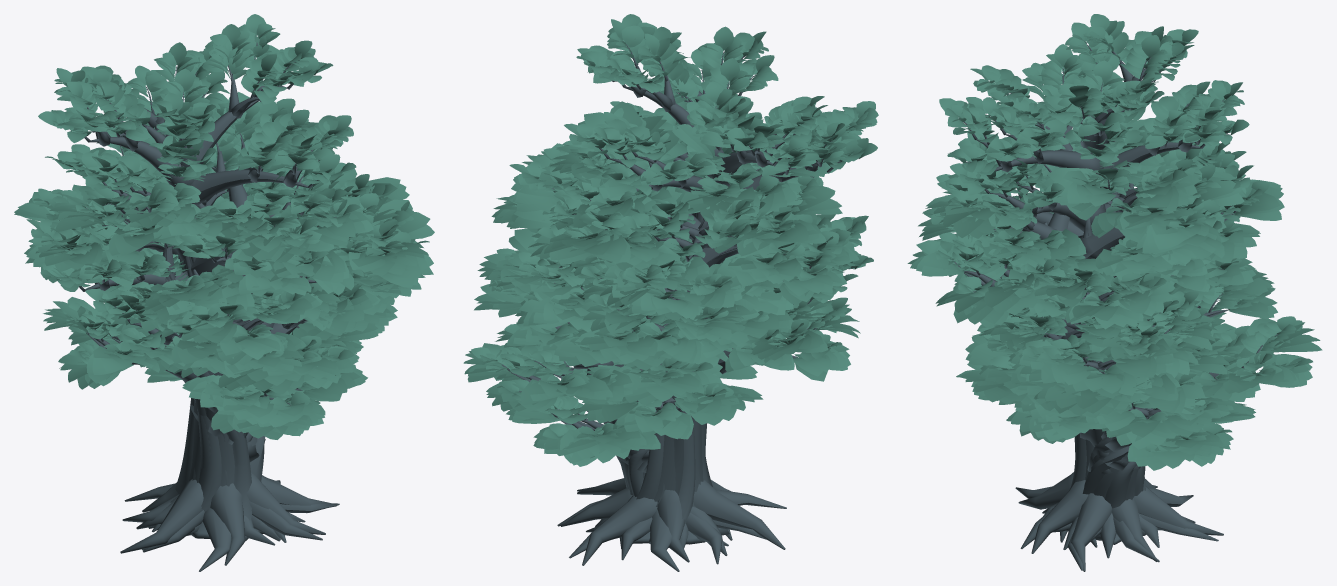
The model's file is vesper-connected-forest-v1.glb.
3 views of the same model, side by side, from view 1: azimuth 30°, elevation 25°; view 2: azimuth 150°, elevation 25°; view 3: azimuth 270°, elevation 25° (orthographic). The views are drawn at different scales.
Visible parts, largest first — view 1: pilot_connected_elder_leaves, connected_tree_mid_1_leaves, connected_tree_1_leaves, connected_tree_mid_0_leaves, connected_tree_mid_2_leaves, pilot_connected_elder_wood, connected_tree_1_wood, connected_tree_lod_1_leaves, connected_tree_0_leaves, connected_tree_lod_0_leaves, connected_tree_lod_2_leaves, connected_tree_2_leaves (+4 smaller); view 2: pilot_connected_elder_leaves, connected_tree_mid_2_leaves, connected_tree_mid_1_leaves, connected_tree_mid_0_leaves, connected_tree_1_leaves, connected_tree_2_leaves, connected_tree_lod_1_leaves, connected_tree_lod_2_leaves, connected_tree_1_wood, pilot_connected_elder_wood, connected_tree_0_leaves, connected_tree_lod_0_leaves (+3 smaller); view 3: pilot_connected_elder_leaves, connected_tree_mid_1_leaves, connected_tree_mid_2_leaves, connected_tree_1_leaves, connected_tree_lod_1_leaves, connected_tree_2_leaves, connected_tree_1_wood, connected_tree_lod_2_leaves, connected_tree_mid_0_leaves, pilot_connected_elder_wood, connected_tree_2_wood, connected_tree_0_leaves (+3 smaller).
Boxes of the visible parts, bbox=[...] form: pilot_connected_elder_leaves: bbox=[26, 14, 373, 349]; connected_tree_mid_1_leaves: bbox=[47, 110, 434, 400]; connected_tree_1_leaves: bbox=[61, 92, 429, 311]; connected_tree_mid_0_leaves: bbox=[14, 177, 409, 389]; connected_tree_mid_2_leaves: bbox=[71, 240, 425, 439]; pilot_connected_elder_wood: bbox=[53, 42, 318, 541]; connected_tree_1_wood: bbox=[85, 133, 384, 565]; connected_tree_lod_1_leaves: bbox=[57, 92, 433, 400]; connected_tree_0_leaves: bbox=[28, 174, 394, 364]; connected_tree_lod_0_leaves: bbox=[18, 168, 400, 383]; connected_tree_lod_2_leaves: bbox=[80, 240, 398, 433]; connected_tree_2_leaves: bbox=[89, 271, 393, 409]; pilot_connected_elder_leaves: bbox=[535, 14, 878, 303]; connected_tree_mid_2_leaves: bbox=[463, 236, 793, 466]; connected_tree_mid_1_leaves: bbox=[511, 117, 842, 363]; connected_tree_mid_0_leaves: bbox=[491, 154, 860, 376]; connected_tree_1_leaves: bbox=[509, 108, 825, 343]; connected_tree_2_leaves: bbox=[471, 232, 798, 439]; connected_tree_lod_1_leaves: bbox=[514, 101, 834, 362]; connected_tree_lod_2_leaves: bbox=[466, 228, 791, 465]; connected_tree_1_wood: bbox=[552, 161, 785, 565]; pilot_connected_elder_wood: bbox=[559, 41, 854, 548]; connected_tree_0_leaves: bbox=[504, 143, 850, 364]; connected_tree_lod_0_leaves: bbox=[496, 143, 855, 381]; pilot_connected_elder_leaves: bbox=[936, 14, 1253, 346]; connected_tree_mid_1_leaves: bbox=[907, 115, 1284, 418]; connected_tree_mid_2_leaves: bbox=[956, 271, 1322, 470]; connected_tree_1_leaves: bbox=[923, 99, 1269, 369]; connected_tree_lod_1_leaves: bbox=[916, 119, 1282, 415]; connected_tree_2_leaves: bbox=[967, 269, 1312, 451]; connected_tree_1_wood: bbox=[952, 141, 1236, 571]; connected_tree_lod_2_leaves: bbox=[956, 271, 1318, 457]; connected_tree_mid_0_leaves: bbox=[954, 185, 1218, 415]; pilot_connected_elder_wood: bbox=[959, 43, 1230, 547]; connected_tree_2_wood: bbox=[1011, 293, 1278, 570]; connected_tree_0_leaves: bbox=[989, 184, 1207, 349].
Size of the model in its own units: 222 by 272 by 221.
